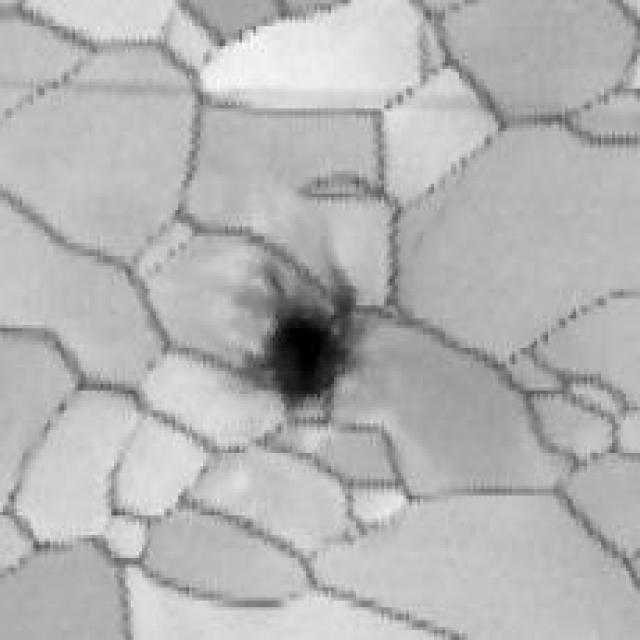good_void: (236, 256, 373, 425)
